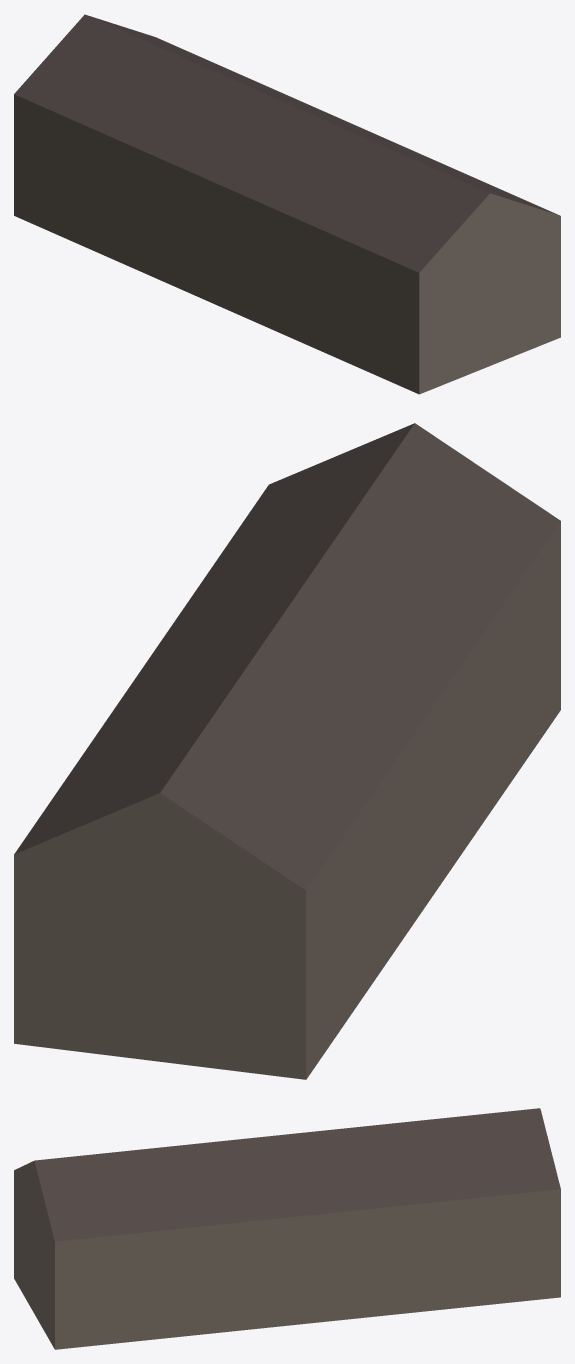
3 views of the same model, one above another, from view 1: azimuth 30°, elevation 25°; view 2: azimuth 150°, elevation 25°; view 3: azimuth 270°, elevation 25° (orthographic). The views are drawn at different scales.
Visible parts, largest first — view 1: HP-w682223769; view 2: HP-w682223769; view 3: HP-w682223769.
Part boxes in pixels (left/top/right/bottom): HP-w682223769: left=14, top=14, right=560, bottom=394; HP-w682223769: left=14, top=423, right=560, bottom=1079; HP-w682223769: left=14, top=1108, right=560, bottom=1349.
Bounding box in the file's own units: 14.75 × 8.53 × 27.53.
